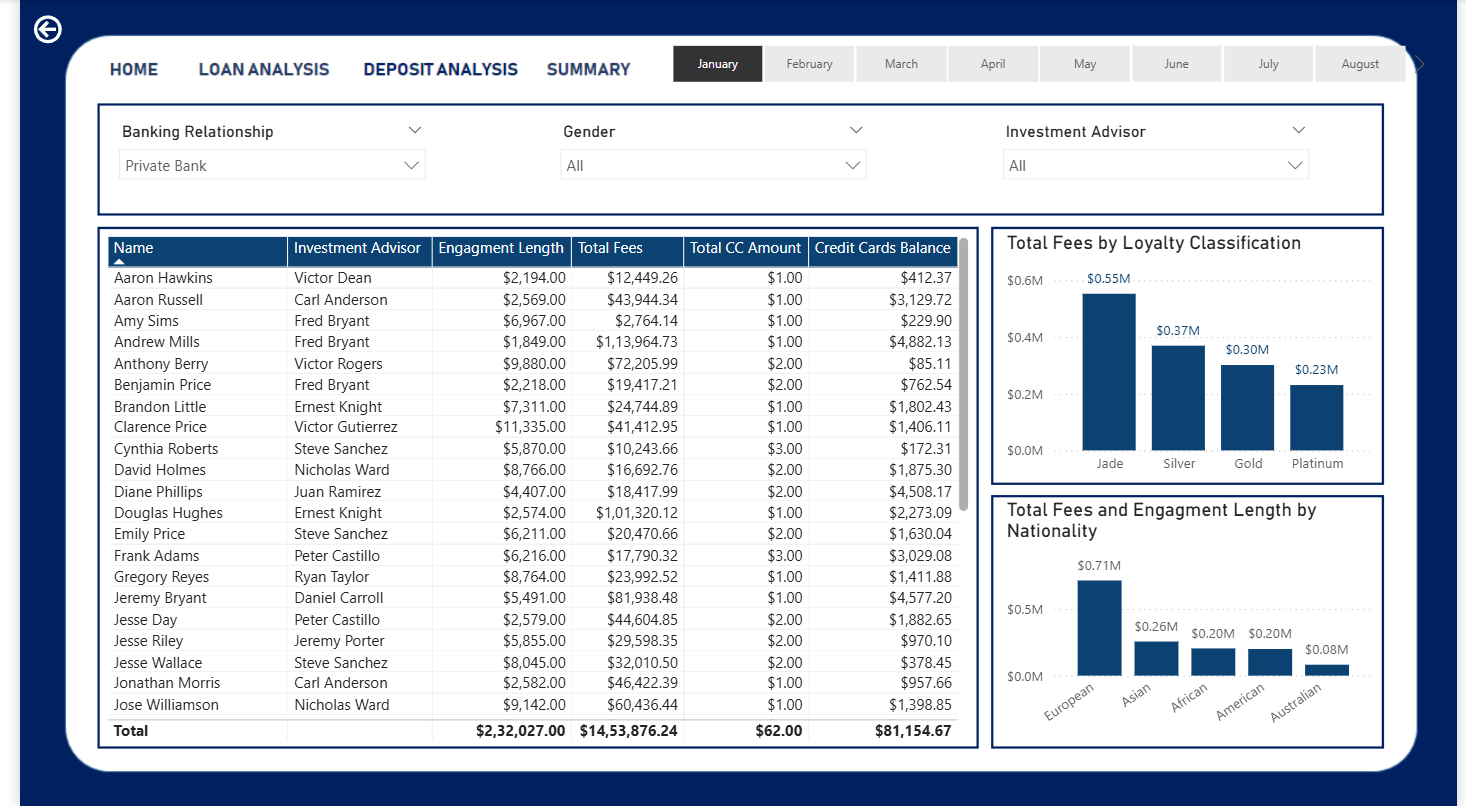

The dashboard page shown, as its layout file describes it:
{"tool":"powerbi","page":{"name":"Drill Through","canvas":[1280,720],"ordinal":4},"visuals":[{"type":"slicer","fields":{"Values":["Banking Relationship.Banking Relationship"]},"box":[77.4,104.4,293.2,76.2],"z":0},{"type":"slicer","fields":{"Values":["Gender.Gender"]},"box":[471.4,104.4,293.2,76.2],"z":1000},{"type":"slicer","fields":{"Values":["Investment Advisor.Investment Advisor"]},"box":[865.4,104.4,293.2,76.2],"z":2000},{"type":"tableEx","fields":{"Values":["Clients - Banking.Name","Investment Advisor.Investment Advisor","DAX Measures.Engagment Length","DAX Measures.Total Fees","DAX Measures.Total CC Amount","DAX Measures.Credit Cards"]},"box":[72.7,207.6,777.5,458.5],"z":3000},{"type":"actionButton","box":[8.2,10.6,41,34],"z":4000},{"type":"clusteredColumnChart","fields":{"Category":["Clients - Banking.Loyalty Classification"],"Y":["DAX Measures.Total Fees"]},"box":[873.6,207.6,336.5,225.1],"z":5000},{"type":"columnChart","fields":{"Category":["Clients - Banking.Nationality"],"Y":["DAX Measures.Total Fees"]},"box":[873.6,444.4,336.5,221.6],"z":6000},{"type":"slicer","fields":{"Values":["Clients - Banking.Joined Bank.Variation.Date Hierarchy.Month"]},"box":[555.2,34.6,702.1,46.6],"z":7000},{"type":"actionButton","box":[72.8,44.2,58.5,31],"z":8000},{"type":"actionButton","box":[157.1,44.6,125.5,30.5],"z":9000},{"type":"actionButton","box":[297.9,44.6,151.3,30.5],"z":10000},{"type":"actionButton","box":[471.4,44.6,83.3,37.5],"z":11000}]}

Visuals, with their boxes in screenshot pixels (x1, y1, x2, y2), scaled from the page's 1280x720 canvas onto the 1466x806 screenshot:
slicer - Banking Relationship.Banking Relationship: (89,117,424,202)
slicer - Gender.Gender: (540,117,876,202)
slicer - Investment Advisor.Investment Advisor: (991,117,1327,202)
tableEx - Clients - Banking.Name x Investment Advisor.Investment Advisor: (83,232,974,746)
actionButton: (9,12,56,50)
clusteredColumnChart - Clients - Banking.Loyalty Classification x DAX Measures.Total Fees: (1001,232,1386,484)
columnChart - Clients - Banking.Nationality x DAX Measures.Total Fees: (1001,497,1386,746)
slicer - Clients - Banking.Joined Bank.Variation.Date Hierarchy.Month: (636,39,1440,91)
actionButton: (83,49,150,84)
actionButton: (180,50,324,84)
actionButton: (341,50,514,84)
actionButton: (540,50,635,92)
